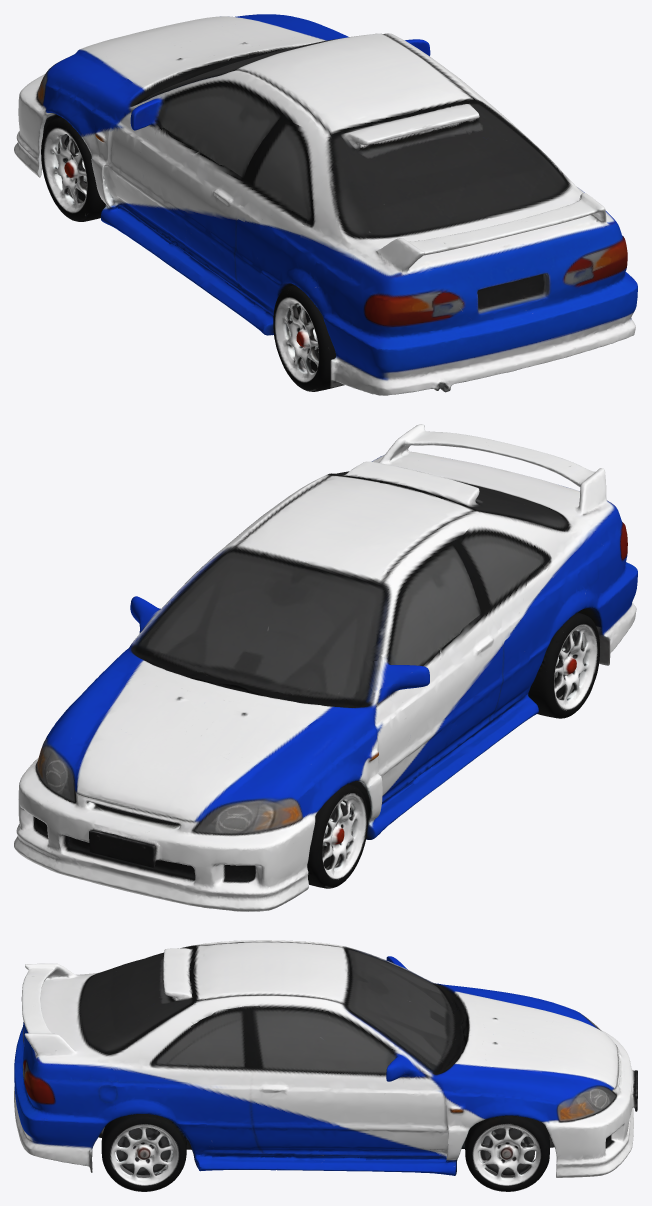
Rendered from Kanjo.fbx.
3 renders of one model, top to bottom at view 1: azimuth 30°, elevation 25°; view 2: azimuth 150°, elevation 25°; view 3: azimuth 270°, elevation 25°, orthographic. The views are drawn at different scales.
Visible parts, largest first — view 1: Mesh_0; view 2: Mesh_0; view 3: Mesh_0.
Part boxes in pixels (x1,y1,x2,y2): Mesh_0: (14, 14, 637, 395); Mesh_0: (14, 424, 637, 911); Mesh_0: (14, 940, 637, 1191).
Bounding box in the file's own units: 164 × 117 × 379.
1 material, 1 textured.
